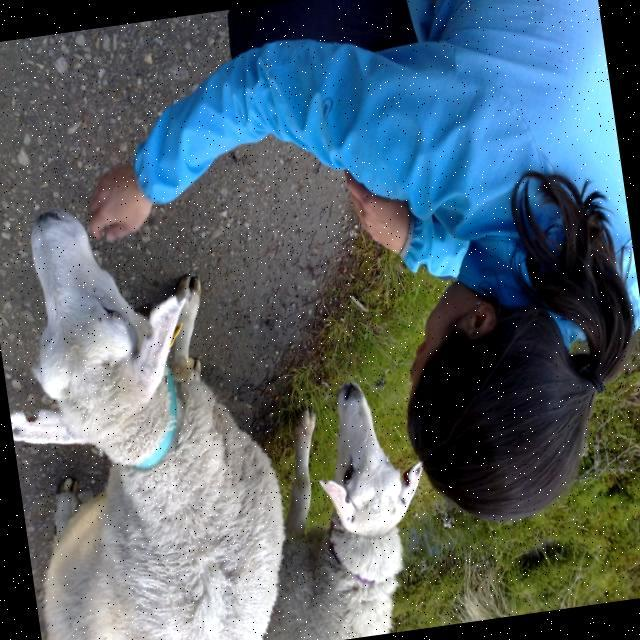sheep: (22, 214, 282, 640), (262, 384, 424, 640)
